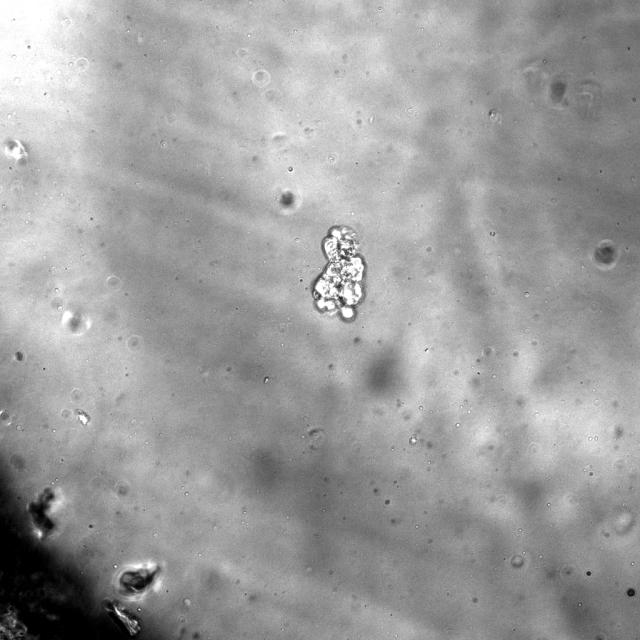organoid: (312, 226, 365, 321), (116, 563, 159, 597), (28, 487, 54, 537), (591, 239, 619, 270), (549, 78, 566, 103), (279, 190, 296, 209)
